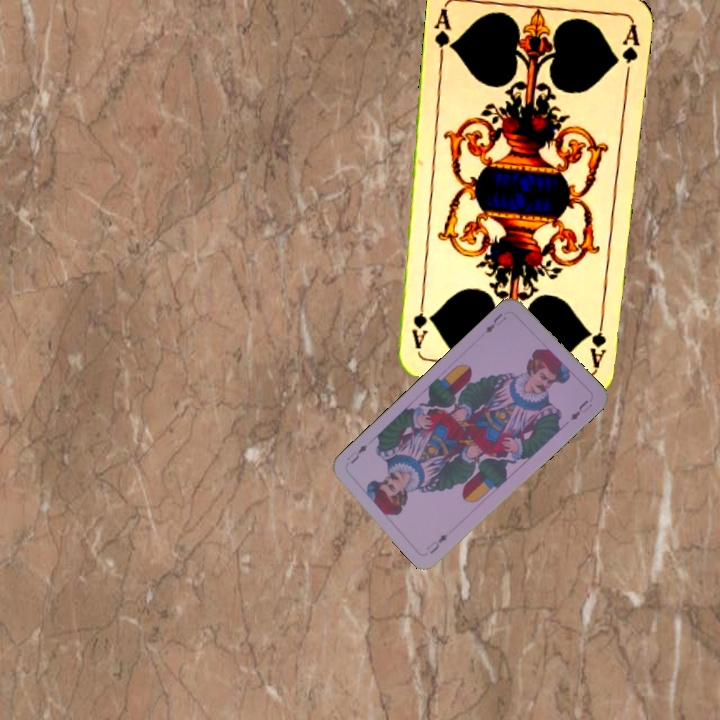EU: (481, 309, 509, 336), (422, 530, 450, 557)
GA: (431, 4, 457, 64), (587, 310, 609, 369)
